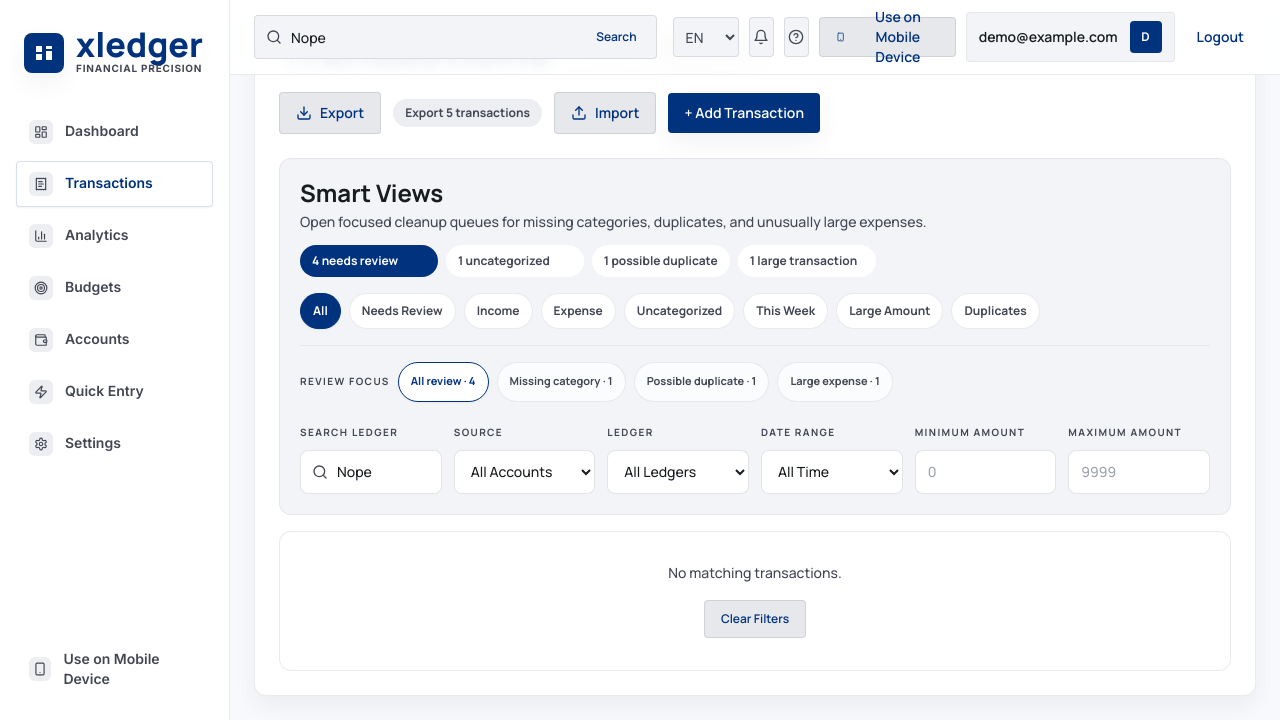
Test: transactions domain › offers a one-click reset when filters hide every transaction
(page scrolled)
Expected: the text "No matching transactions." is shown, [668, 564, 842, 582]
Click the button "Clear Filters" at (755, 618), box [704, 600, 806, 638]
(page scrolled)
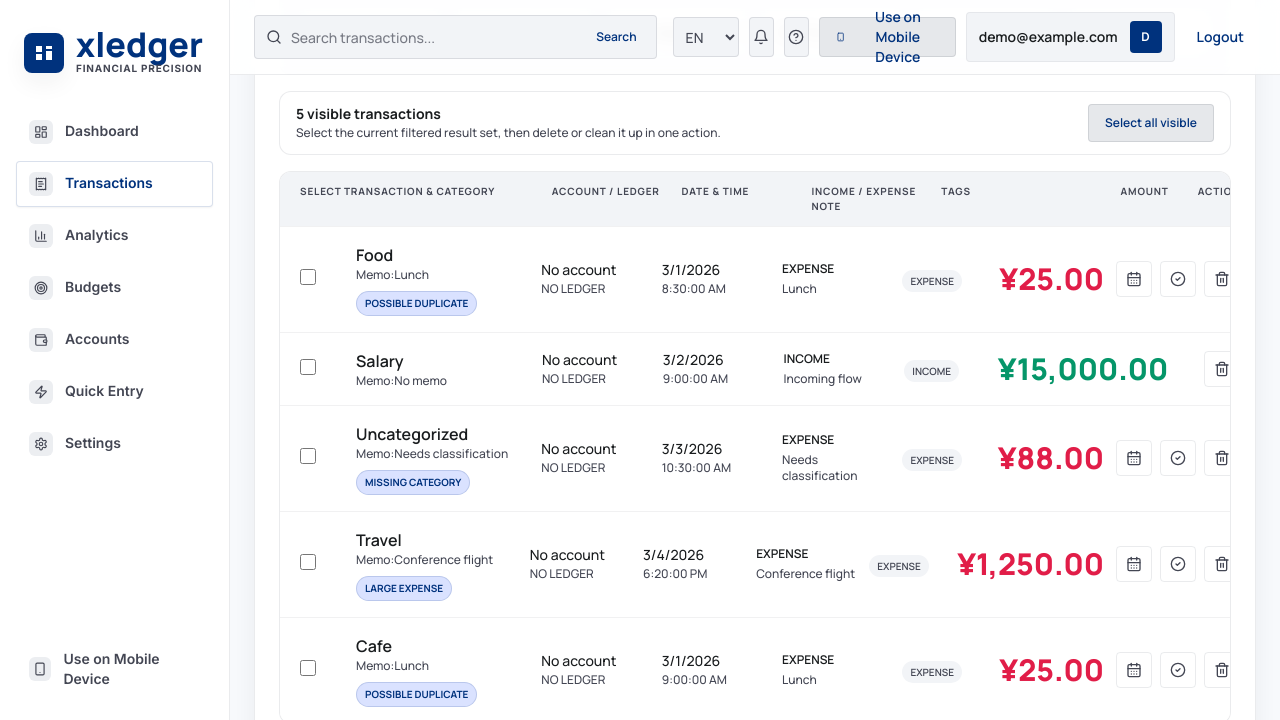
Expected: the text "Food" is shown, [356, 244, 393, 266]
Expected: the text "Salary" is shown, [356, 350, 404, 372]
